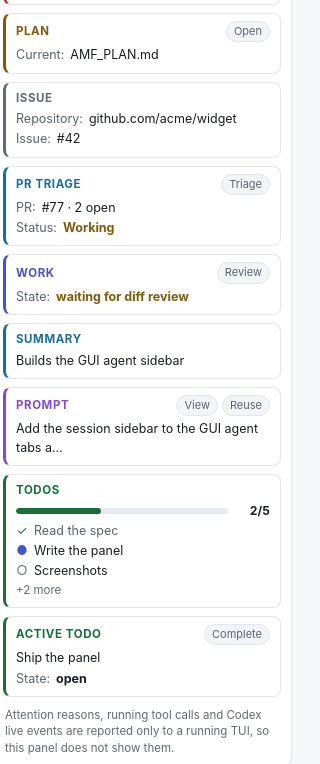
Test: session sidebar › completes the active TODO only after confirmation
The width and height of the screenshot is (320, 764).
(page scrolled)
Click the button "Complete" at (237, 635), box left=204, top=624, right=270, bottom=645
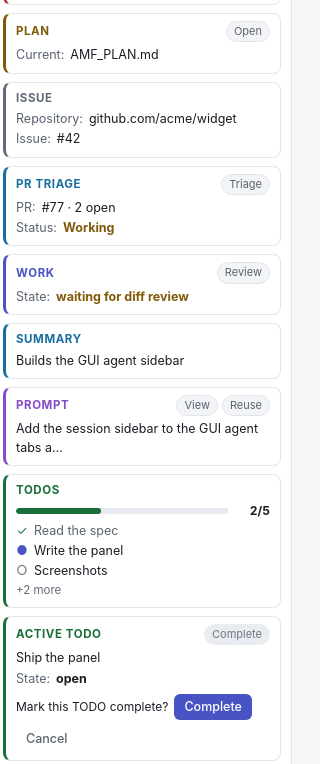
Click the button "Cancel" at (47, 739), box left=16, top=726, right=78, bottom=752
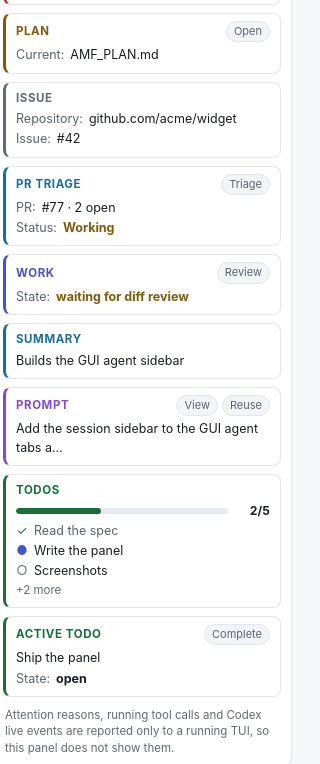
Click the button "Complete" at (237, 635), box left=204, top=624, right=270, bottom=645
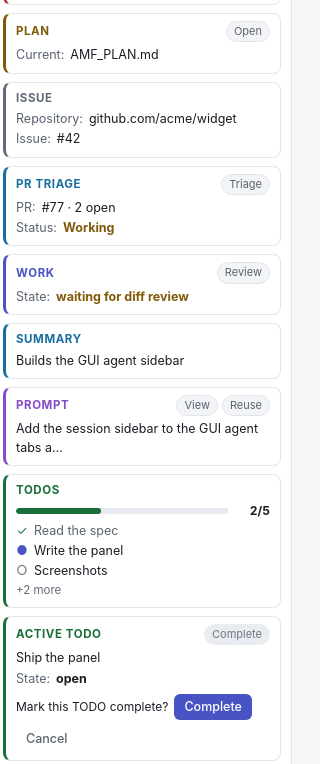
Click the button "Complete" next to "Mark this TODO complete?" at (213, 707), box left=174, top=694, right=252, bottom=720
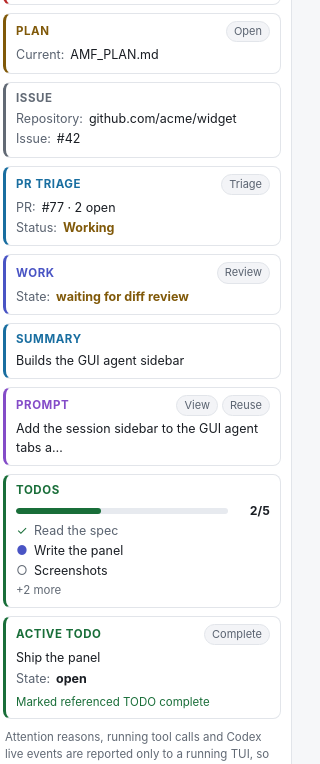
Expected: the text "Marked referenced TODO complete" is shown, left=16, top=695, right=210, bottom=709
